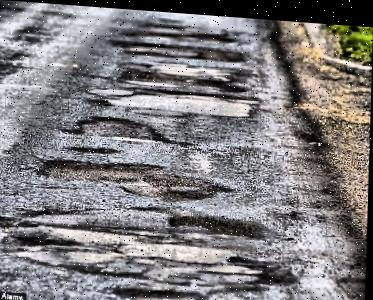pothole: (36, 153, 237, 203), (59, 110, 174, 144), (109, 34, 244, 60), (117, 65, 247, 91), (168, 209, 269, 238), (120, 24, 233, 43), (66, 142, 123, 154)
